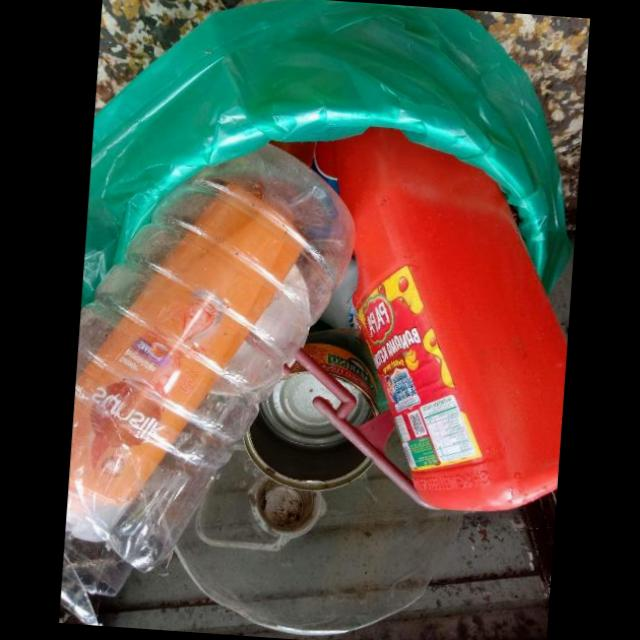chai_nhua: (65, 139, 367, 626), (270, 128, 564, 512), (65, 178, 300, 542)
nhom: (243, 343, 383, 490)
